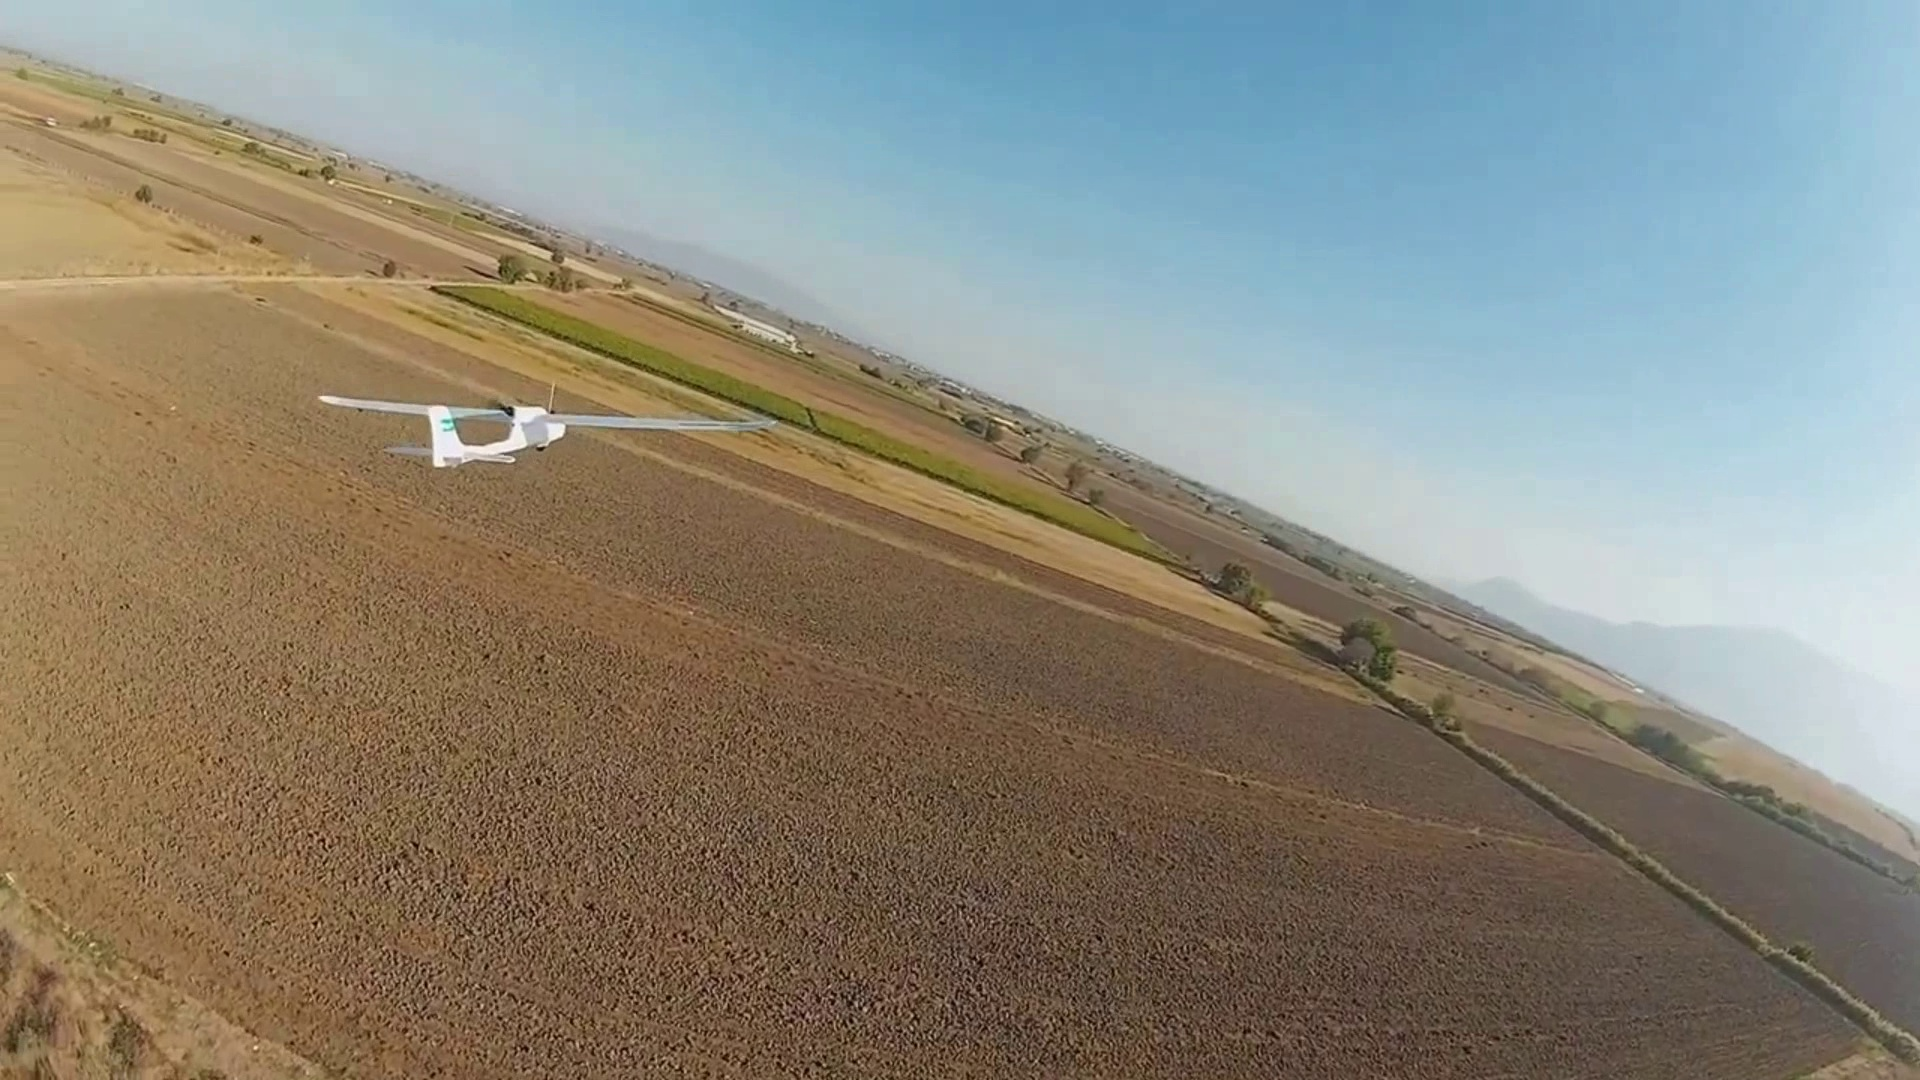airplane: (318, 400, 568, 468)
